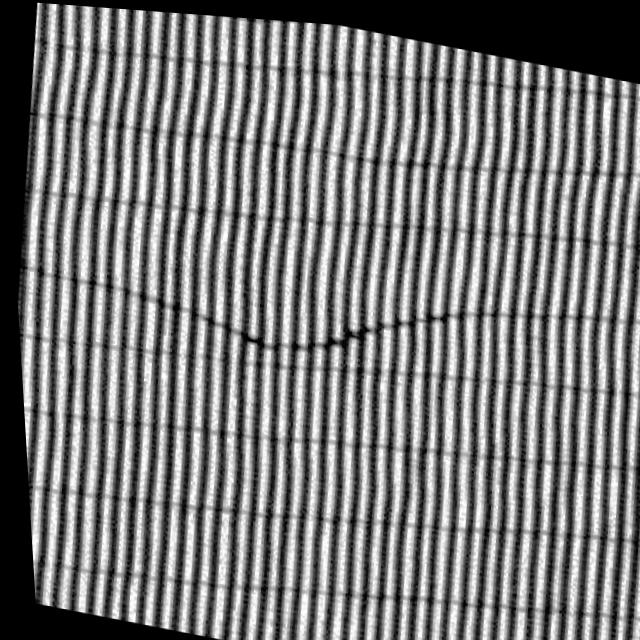Stitch: (159, 219, 519, 408)
